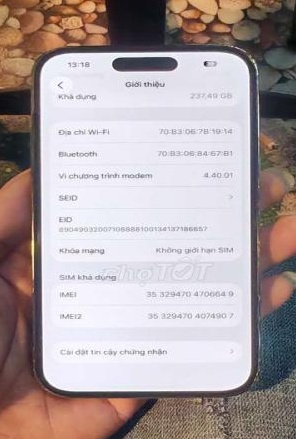physical_damage: (245, 273, 270, 382)
scratch: (227, 37, 273, 71)
